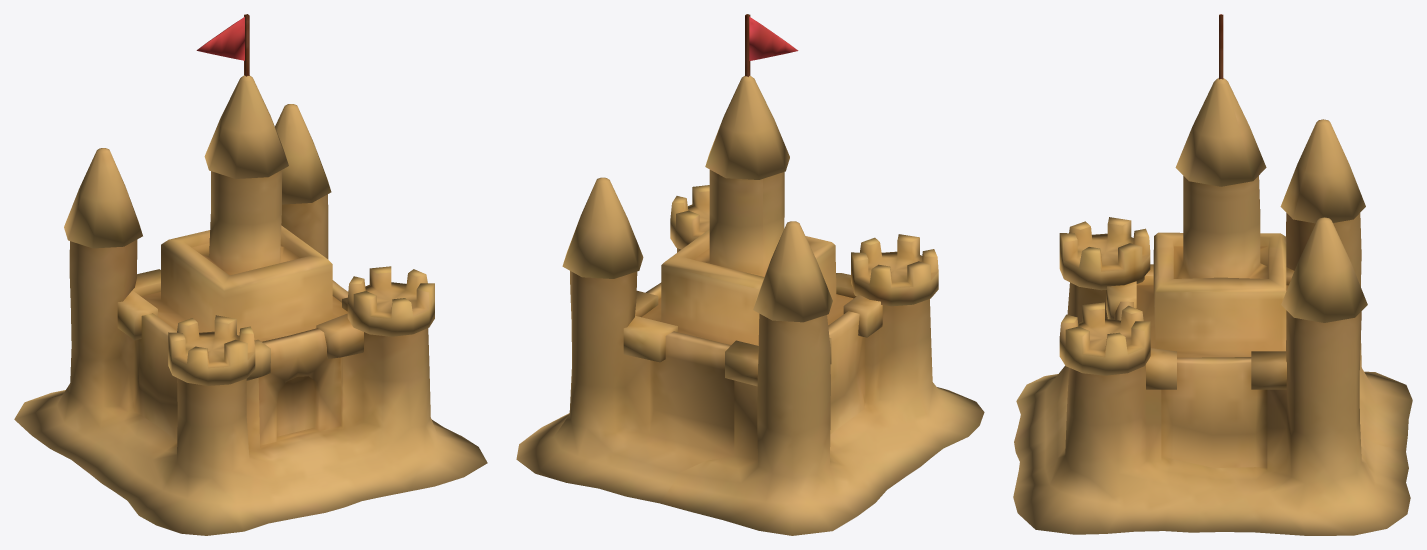
The picture shows the model from 3 angles, left to right: view 1: azimuth 30°, elevation 25°; view 2: azimuth 150°, elevation 25°; view 3: azimuth 270°, elevation 25°; orthographic projection. The views are drawn at different scales.
Bounding box in the file's own units: 8.66 × 10.6 × 8.78.
1 material, 1 textured.
